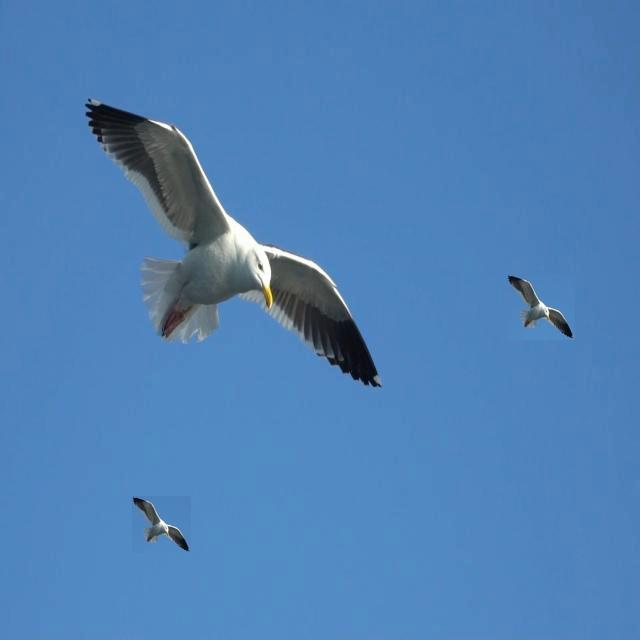bird: (80, 89, 390, 399), (509, 275, 576, 337), (132, 498, 189, 551)
